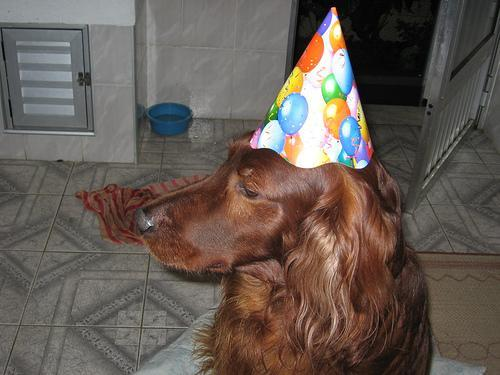Irish_setter: (136, 129, 434, 374)
